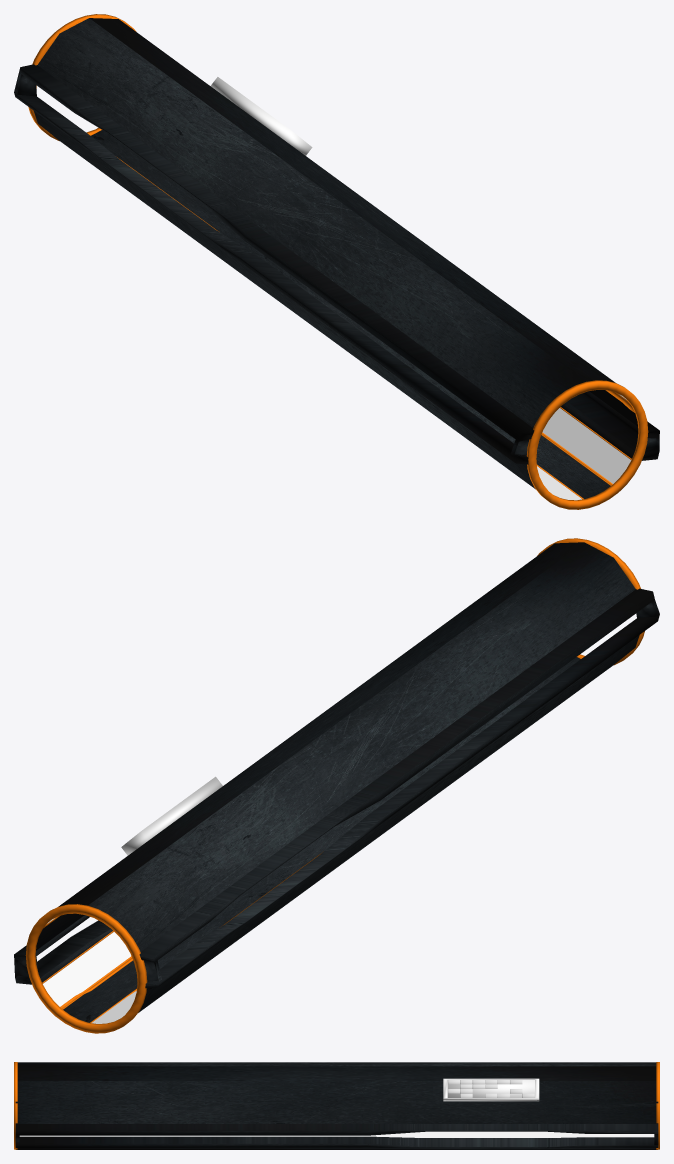
The model's file is Block_0_Windows.fbx.
The picture shows the model from 3 angles, top to bottom: view 1: azimuth 30°, elevation 25°; view 2: azimuth 150°, elevation 25°; view 3: azimuth 270°, elevation 25°; orthographic projection. The views are drawn at different scales.
Parts seen in each view (by area): view 1: External, Window, Face 11, Connectors, Window.2, Face 12, Cubes; view 2: External, Window, Face 11, Connectors, Face 12, Window.2, Cubes; view 3: External, Window.2, Face 10, Container, Cubes, Connectors.
Part boxes in pixels (x1,y1,x2,y2): External: [34, 18, 615, 489]; Window: [14, 64, 534, 464]; Face 11: [91, 130, 610, 498]; Connectors: [28, 14, 648, 509]; Window.2: [561, 391, 659, 460]; Face 12: [542, 408, 631, 483]; Cubes: [210, 77, 312, 155]; External: [58, 542, 639, 1012]; Window: [139, 588, 659, 988]; Face 11: [63, 657, 580, 1022]; Connectors: [25, 538, 644, 1033]; Face 12: [43, 932, 131, 1006]; Window.2: [14, 915, 112, 984]; Cubes: [121, 776, 222, 855]; External: [15, 1062, 658, 1149]; Window.2: [15, 1124, 658, 1147]; Face 10: [19, 1131, 654, 1137]; Container: [446, 1080, 536, 1101]; Cubes: [443, 1078, 539, 1101]; Connectors: [14, 1062, 659, 1149].
Bounding box in the file's own units: 134 × 109 × 800.
3 materials, 1 textured.
